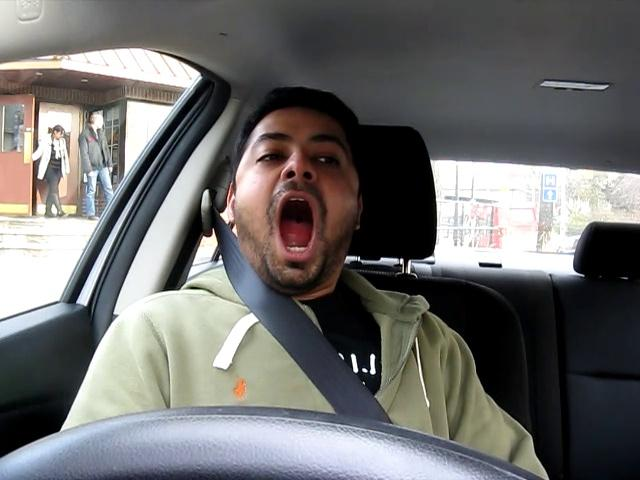close_eyeL: (243, 141, 294, 174)
close_eyeR: (299, 144, 354, 177)
yawn: (256, 189, 335, 268)
